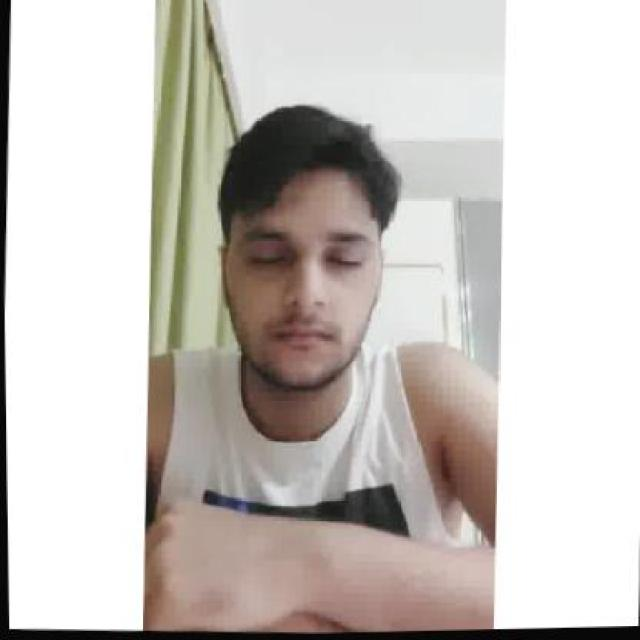inattentif: (210, 97, 392, 400)
